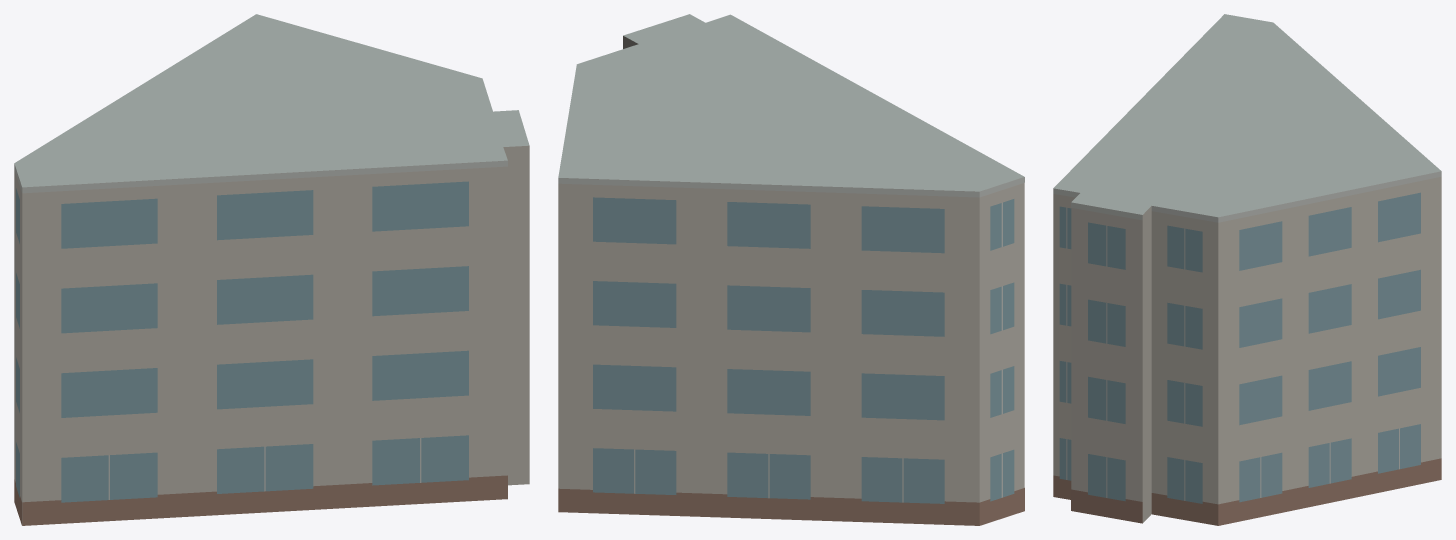
File: survey-upis-32698421.glb
The picture shows the model from 3 angles, left to right: view 1: azimuth 30°, elevation 25°; view 2: azimuth 150°, elevation 25°; view 3: azimuth 270°, elevation 25°; orthographic projection. The views are drawn at different scales.
Visible parts, largest first — view 1: survey-upis-32698421.tmp; view 2: survey-upis-32698421.tmp; view 3: survey-upis-32698421.tmp.
Boxes of the visible parts, box(x1,y1,x2,y2) form: survey-upis-32698421.tmp: box(14, 14, 529, 525); survey-upis-32698421.tmp: box(558, 14, 1024, 525); survey-upis-32698421.tmp: box(1053, 14, 1441, 525).
Bounding box in the file's own units: 19.51 × 13.8 × 15.76.
